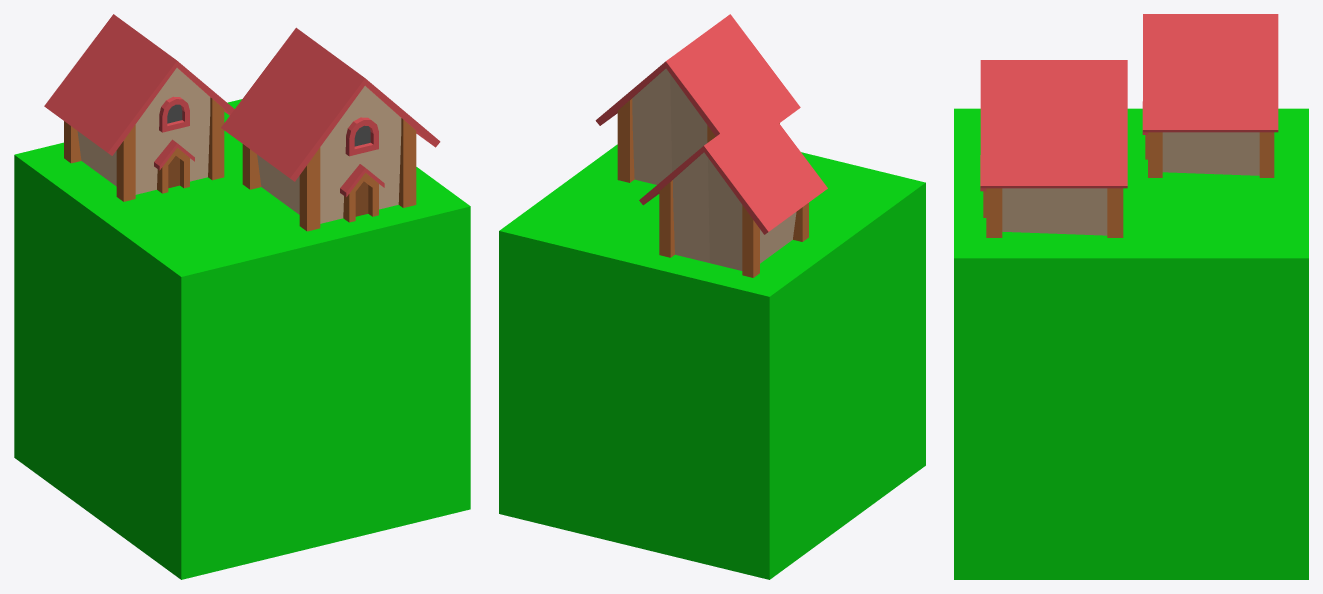
The model's file is house.gltf.
The picture shows the model from 3 angles, left to right: view 1: azimuth 30°, elevation 25°; view 2: azimuth 150°, elevation 25°; view 3: azimuth 270°, elevation 25°; orthographic projection. The views are drawn at different scales.
Visible parts, largest first — view 1: Land, Cube.015, Cube.016; view 2: Land, Cube.016, Cube.015; view 3: Land, Cube.015, Cube.016.
Boxes of the visible parts, <box> form: Land: <box>14,99,470,579</box>; Cube.015: <box>221,27,440,231</box>; Cube.016: <box>44,14,234,201</box>; Land: <box>499,144,925,579</box>; Cube.016: <box>639,102,827,277</box>; Cube.015: <box>595,14,800,184</box>; Land: <box>954,108,1308,579</box>; Cube.015: <box>980,60,1127,237</box>; Cube.016: <box>1142,14,1278,177</box>.
Size of the model in its own units: 2 by 2.94 by 2.
